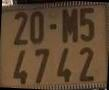-: (50, 24, 57, 29)
0: (30, 12, 43, 44)
2: (79, 47, 94, 81), (14, 12, 28, 44)
4: (14, 50, 27, 84), (58, 48, 71, 82)
5: (80, 9, 94, 41)
7: (36, 50, 49, 83)
M: (62, 10, 77, 43)
